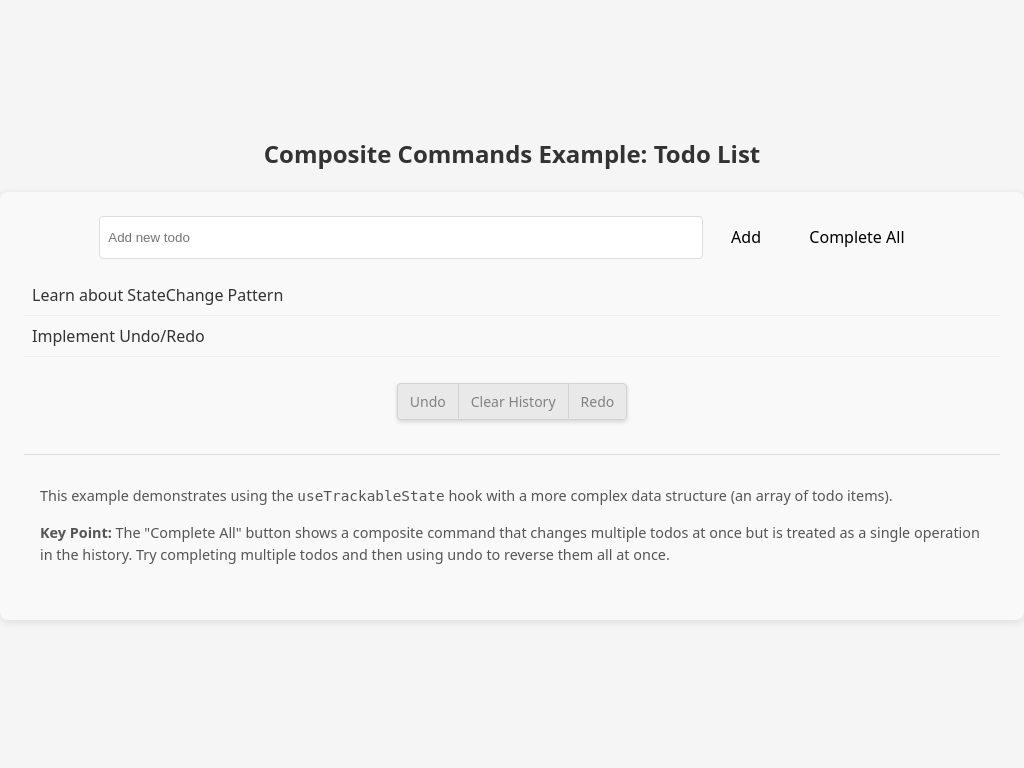
Test case: TodoList component › adds a new todo when add button is clicked
The width and height of the screenshot is (1024, 768).
Type "Test the TodoList component" into the field with placeholder "Add new todo" at (401, 237), box [99,216,703,259]
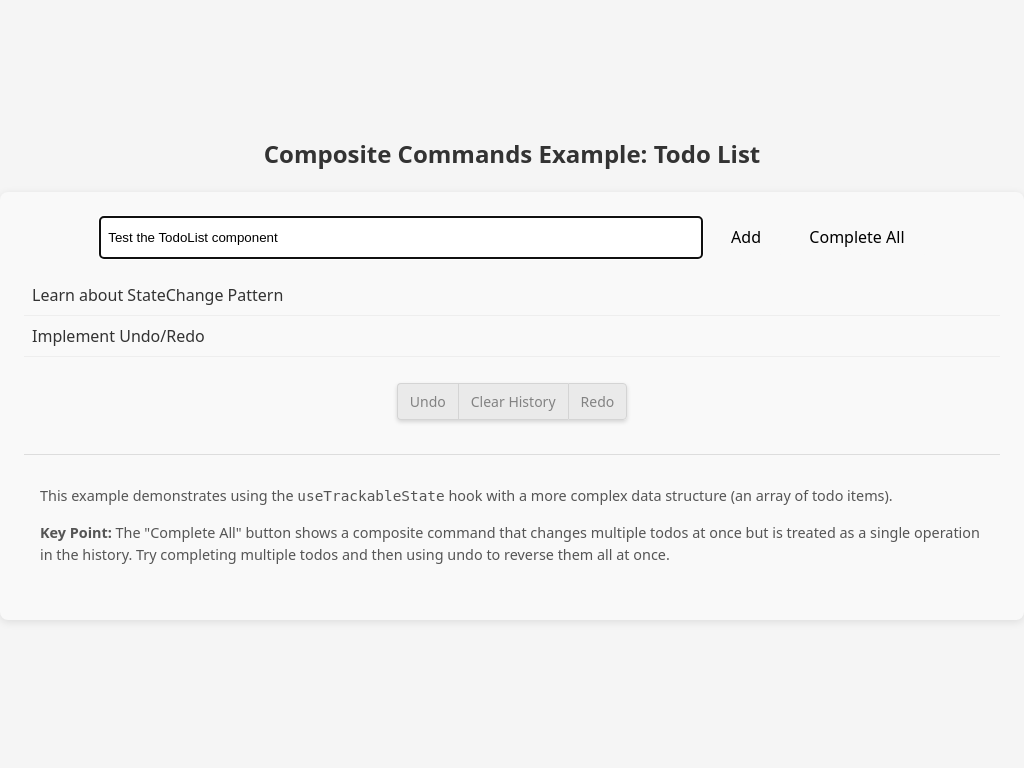
// Click the add button
Click the button "Add" at (746, 237), box [711,216,781,259]
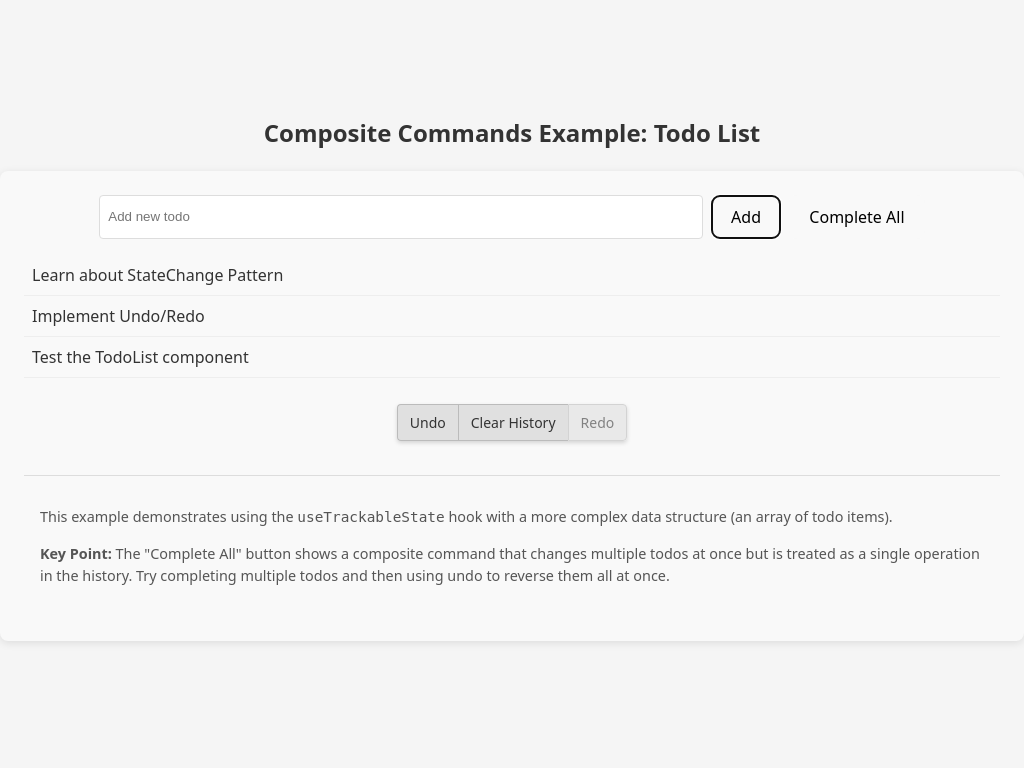
Expected: the number of list items is 3, [24,254,1000,296]; [24,296,1000,336]; [24,336,1000,378]
Expected: the list item "Test the TodoList component" is shown, [24,336,1000,378]
